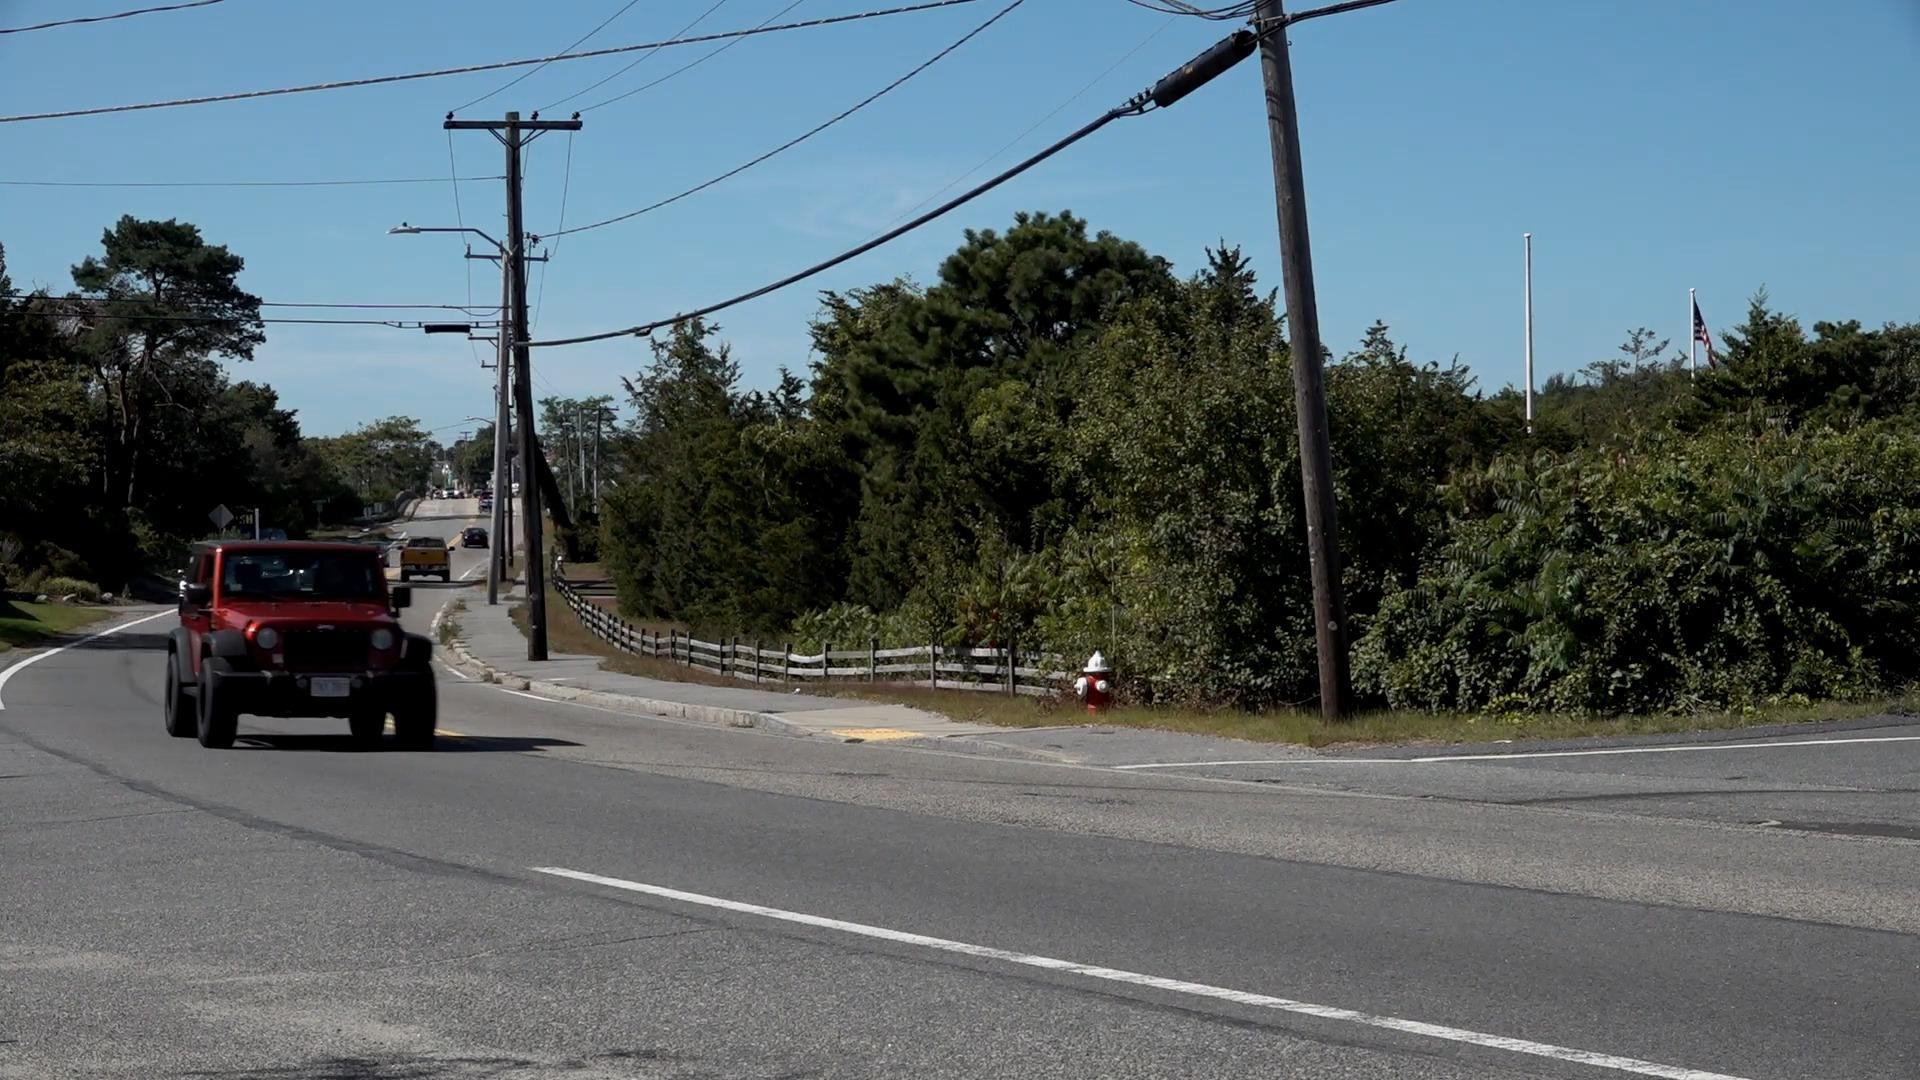suv: (161, 521, 445, 760)
